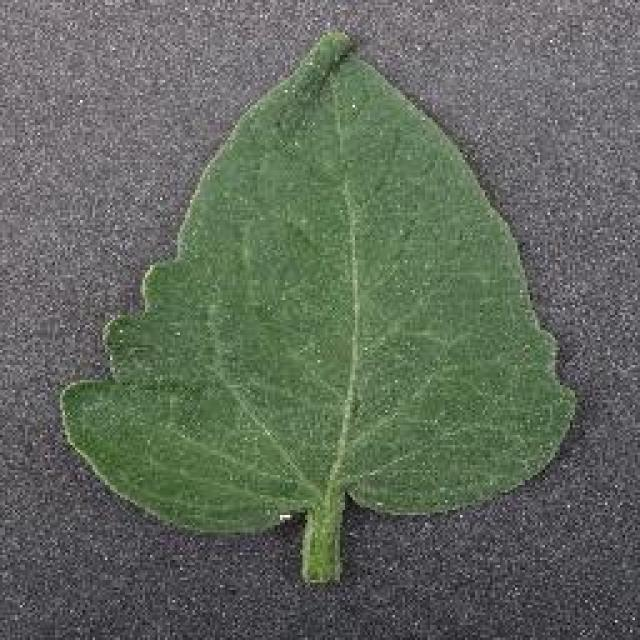Tomato___healthy: (60, 24, 574, 586)
